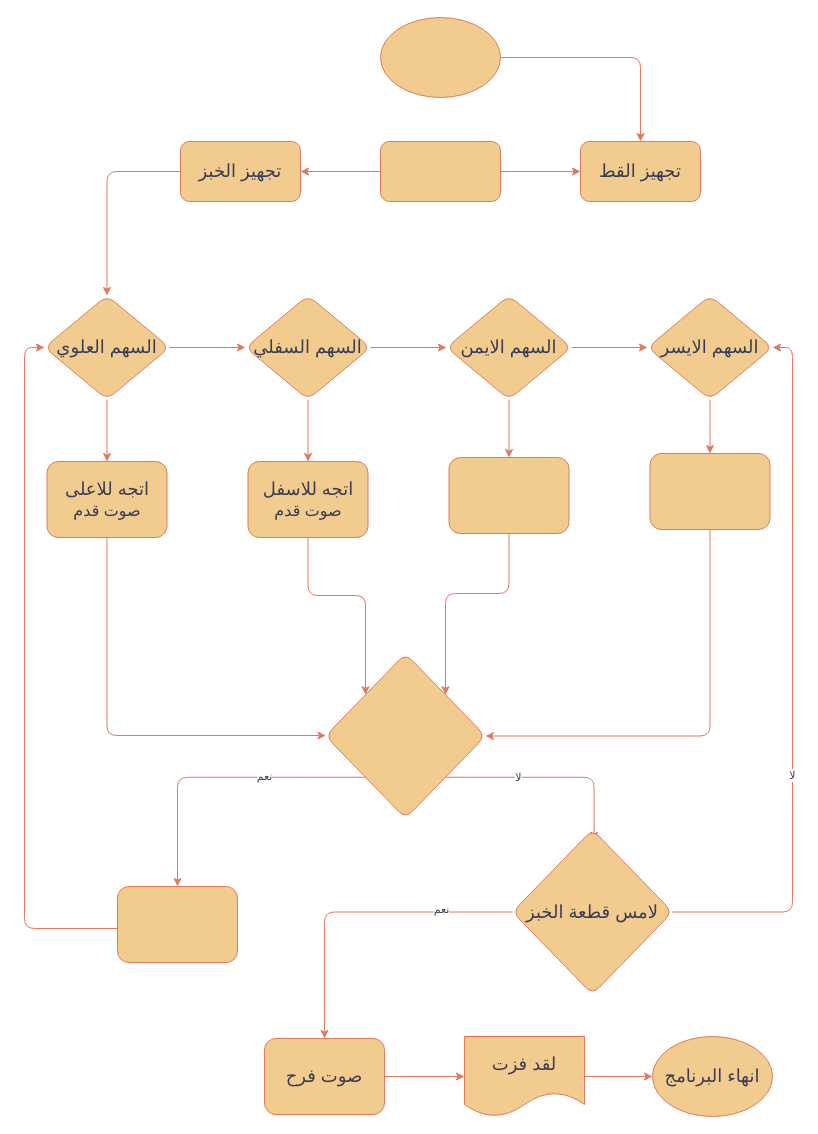
This 818x1134 diagram has some shape labels left out. The shapes that lost their labels are listed below. From the top down, each one's centre as x and y in pixels, then its label:
At (x=440, y=57): "بدء البرنامج".
At (x=440, y=171): "تجهيز المتاهة".
At (x=508, y=495): "اتجه لليمين صوت قدم".
At (x=709, y=491): "اتجه لليسار صوت قدم".
At (x=405, y=735): "لامس جدار المتاهة".
At (x=177, y=924): "ارجع للخلف صوت انذار".
